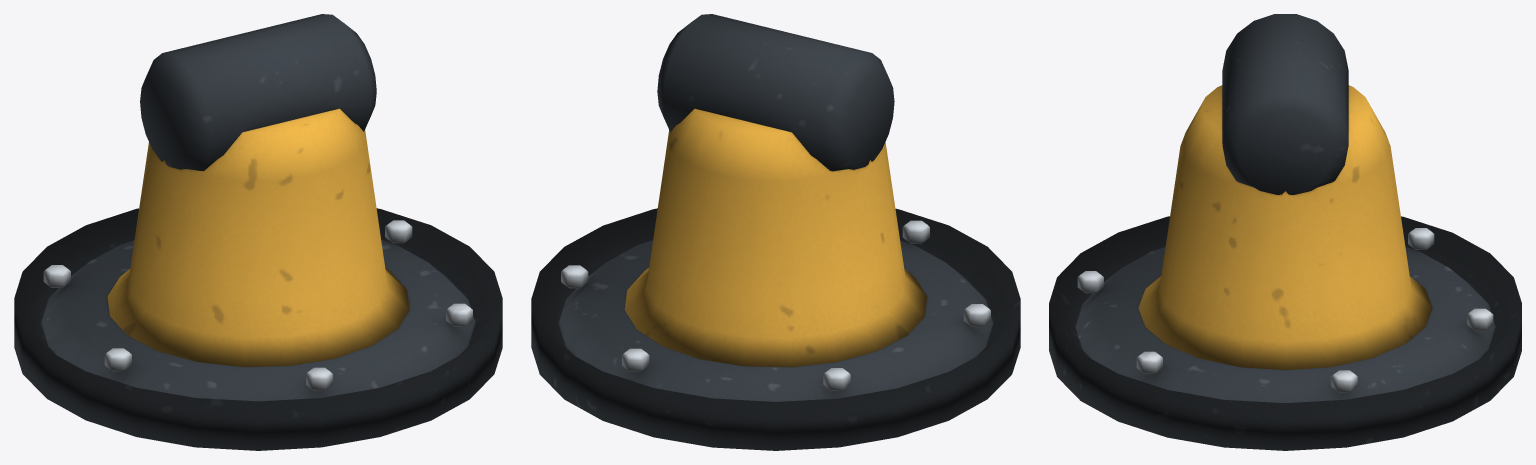
Rendered from BrazoRobot_Base.fbx.
The picture shows the model from 3 angles, left to right: view 1: azimuth 30°, elevation 25°; view 2: azimuth 150°, elevation 25°; view 3: azimuth 270°, elevation 25°; orthographic projection. The views are drawn at different scales.
Visible parts, largest first — view 1: Malla; view 2: Malla; view 3: Malla.
Boxes of the visible parts, bbox=[...] form: Malla: bbox=[14, 14, 502, 450]; Malla: bbox=[531, 14, 1020, 450]; Malla: bbox=[1049, 14, 1521, 450].
Bounding box in the file's own units: 0.9 × 0.6289 × 0.9001.
1 material, 1 textured.
